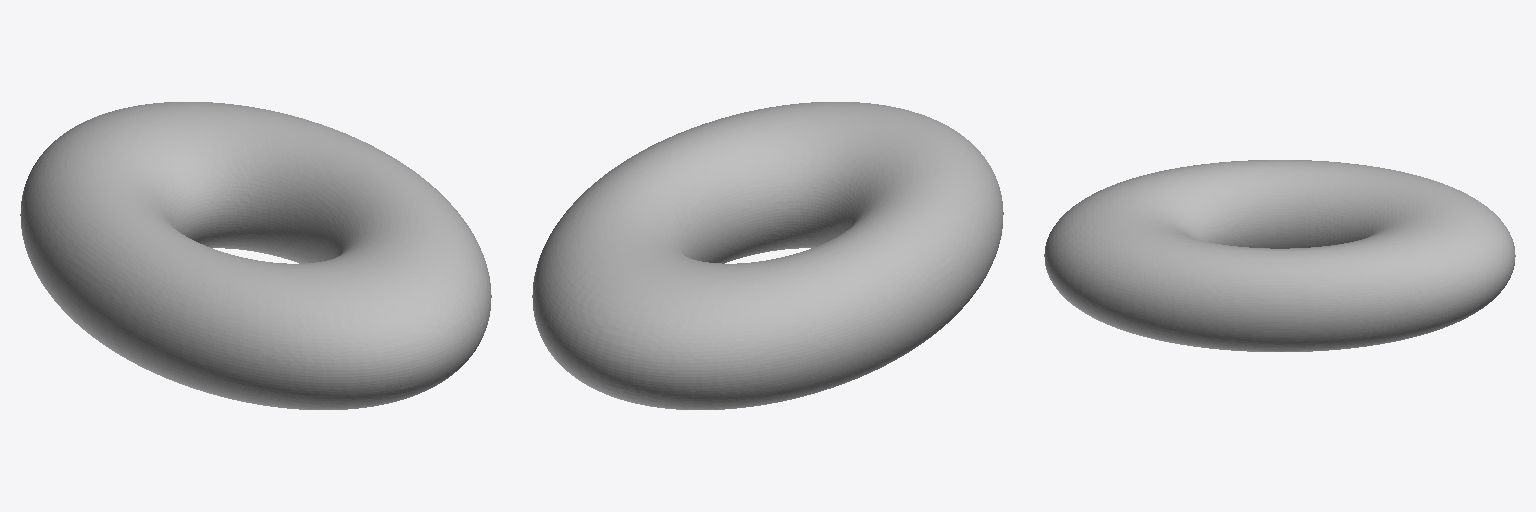
URDF robot description (root):
<robot name="root">
  <link name="link_001">
    <visual>
      <origin xyz="0 0 0" rpy="0 0 0"/>
      <geometry>
        <mesh filename="torussmall.obj" scale="1.0000E+00 1.5000E+00 1.0000E+00"/>
      </geometry>
      <material name="">
        <color rgba="7.50E-01 7.50E-01 7.50E-01 1"/>
      </material>
    </visual>
    <collision>
      <origin xyz="0 0 0" rpy="0 0 0"/>
      <geometry>
        <mesh filename="torussmall.obj" scale="1.0000E+00 1.5000E+00 1.0000E+00"/>
      </geometry>
    </collision>
    <inertial>
      <mass value="0.16"/> <!-- 质量：0.1kg -->
    </inertial>
  </link>
</robot>

--- What the picture shows (computed from the rendered views, not written in the file) ---
3 views of the same robot in one strip: view 1: azimuth 30°, elevation 25°; view 2: azimuth 150°, elevation 25°; view 3: azimuth 270°, elevation 25° (orthographic).
Model root with 1 links and 0 joints (none), rooted at link_001, posed all joints at 0.
Visible links, largest first — view 1: link_001; view 2: link_001; view 3: link_001.
Boxes of the visible links, x1,y1,x2,y2 form: link_001: [20, 102, 491, 409]; link_001: [532, 102, 1003, 409]; link_001: [1044, 160, 1515, 351].
Size in the robot's own frame: 0.0409 by 0.0613 by 0.0135 metres.
1 mesh visuals loaded from 1 distinct referenced files (1 OBJ).
